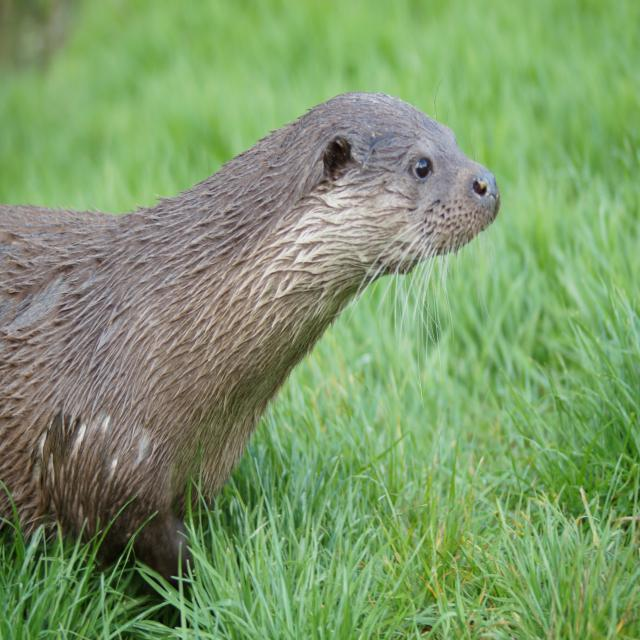otter: (1, 92, 500, 526)
